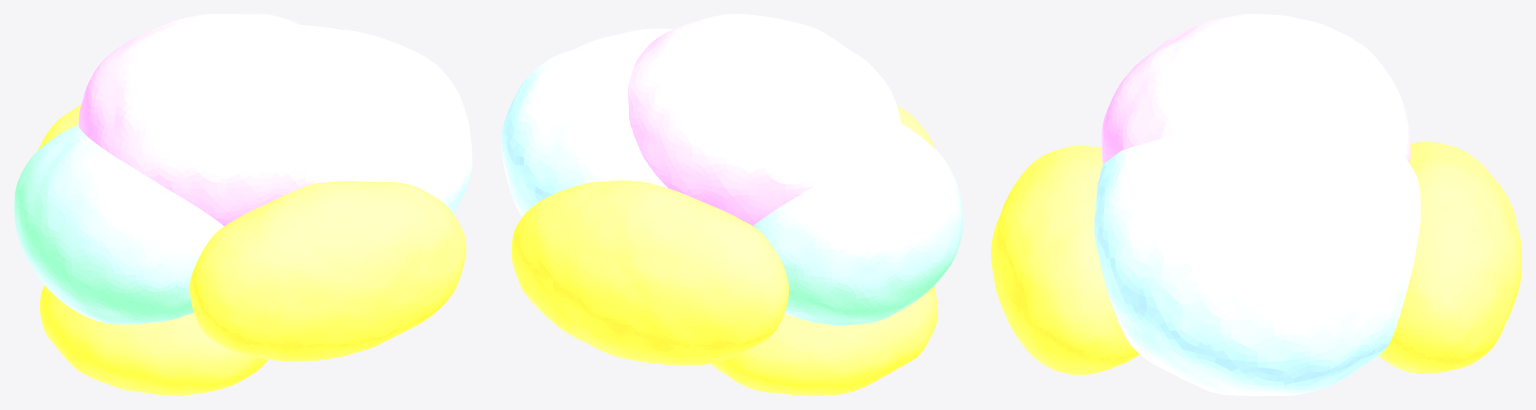
The model's file is brain.glb.
3 renders of one model, left to right at view 1: azimuth 30°, elevation 25°; view 2: azimuth 150°, elevation 25°; view 3: azimuth 270°, elevation 25°, orthographic. The views are drawn at different scales.
Parts seen in each view (by area): view 1: brain_parietal, brain_temporal_right, brain_occipital, brain_frontal, brain_cerebellum, brain_temporal_left; view 2: brain_parietal, brain_temporal_left, brain_occipital, brain_frontal, brain_cerebellum, brain_temporal_right; view 3: brain_frontal, brain_parietal, brain_temporal_left, brain_temporal_right.
Boxes of the visible parts, bbox=[...] form: brain_parietal: bbox=[78, 14, 346, 226]; brain_temporal_right: bbox=[189, 181, 466, 361]; brain_occipital: bbox=[14, 125, 223, 324]; brain_frontal: bbox=[301, 25, 472, 213]; brain_cerebellum: bbox=[40, 285, 267, 395]; brain_temporal_left: bbox=[38, 105, 81, 150]; brain_parietal: bbox=[628, 14, 901, 225]; brain_temporal_left: bbox=[511, 180, 788, 365]; brain_occipital: bbox=[753, 124, 962, 324]; brain_frontal: bbox=[501, 28, 672, 216]; brain_cerebellum: bbox=[711, 286, 937, 395]; brain_temporal_right: bbox=[897, 106, 935, 149]; brain_frontal: bbox=[1094, 122, 1420, 395]; brain_parietal: bbox=[1101, 14, 1410, 164]; brain_temporal_left: bbox=[1378, 141, 1521, 373]; brain_temporal_right: bbox=[991, 145, 1139, 374].
Bounding box in the file's own units: 2.25 × 1.7 × 2.2.
